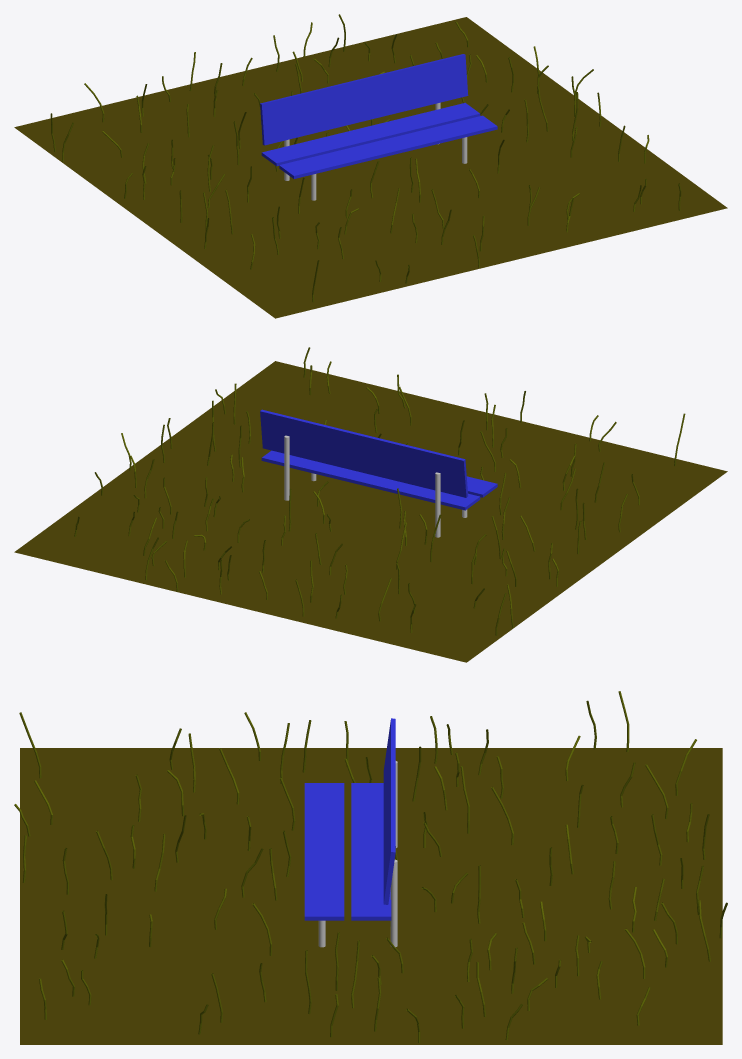
Rendered from bench.glb.
The picture shows the model from 3 angles, top to bottom: view 1: azimuth 30°, elevation 25°; view 2: azimuth 150°, elevation 25°; view 3: azimuth 270°, elevation 25°; orthographic projection. The views are drawn at different scales.
Visible parts, largest first — view 1: Plane, Cube.002, Mesh, Cube.001, Cube; view 2: Plane, Cube.002, Mesh, Cube; view 3: Plane, Mesh, Cube.001, Cube, Cube.002, Cylinder.003.
Boxes of the visible parts, box(x1,y1,x2,y2) form: Plane: box(14, 17, 727, 318); Cube.002: box(260, 54, 468, 145); Mesh: box(50, 14, 681, 302); Cube.001: box(279, 115, 497, 178); Cube: box(261, 102, 480, 166); Plane: box(14, 361, 727, 662); Cube.002: box(260, 409, 468, 497); Mesh: box(74, 347, 685, 635); Cube: box(261, 450, 480, 510); Plane: box(20, 748, 722, 1044); Mesh: box(14, 691, 727, 1042); Cube.001: box(304, 783, 344, 920); Cube: box(351, 783, 391, 920); Cube.002: box(383, 718, 395, 904); Cylinder.003: box(390, 859, 397, 947).
Bounding box in the file's own units: 6.16 × 1.06 × 6.1.
